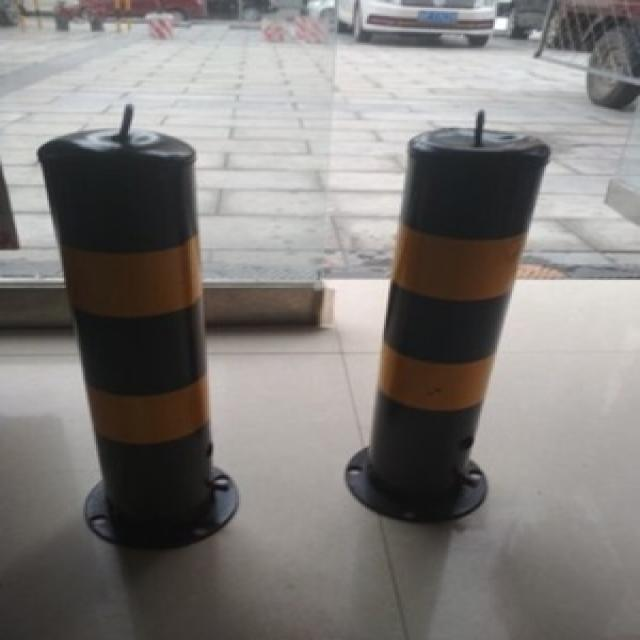car: (330, 0, 497, 46)
warning_column: (28, 104, 241, 549), (339, 107, 548, 522)
